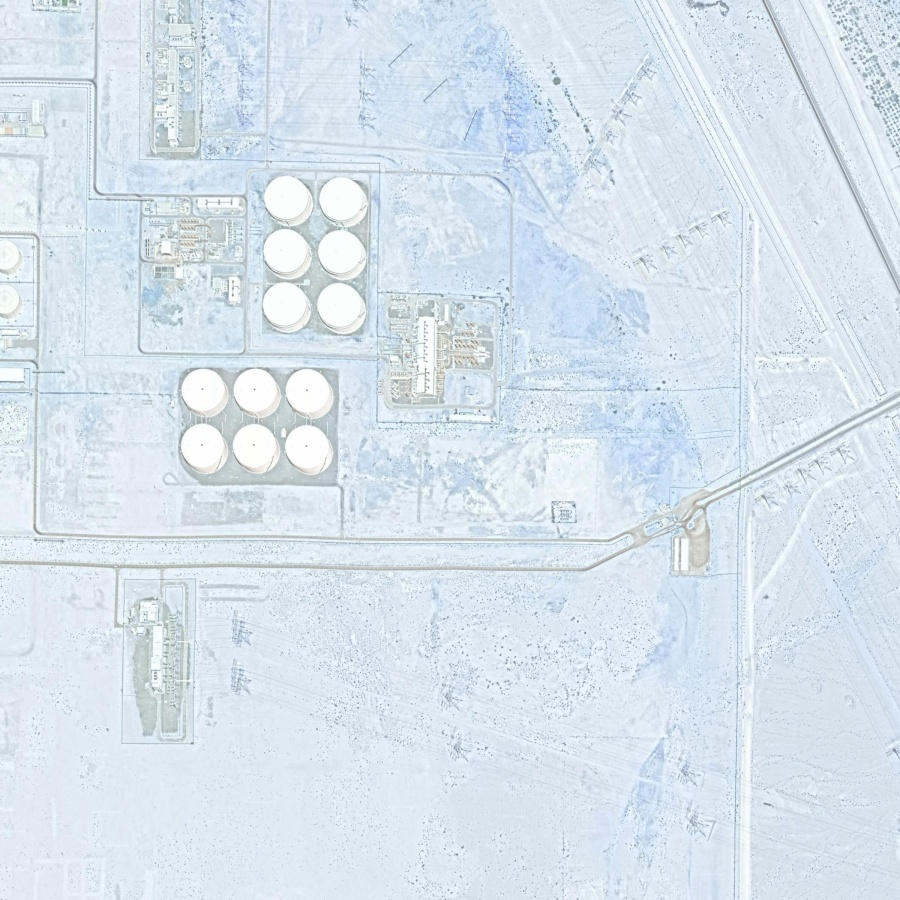PowerPlant: (118, 143, 498, 501)
